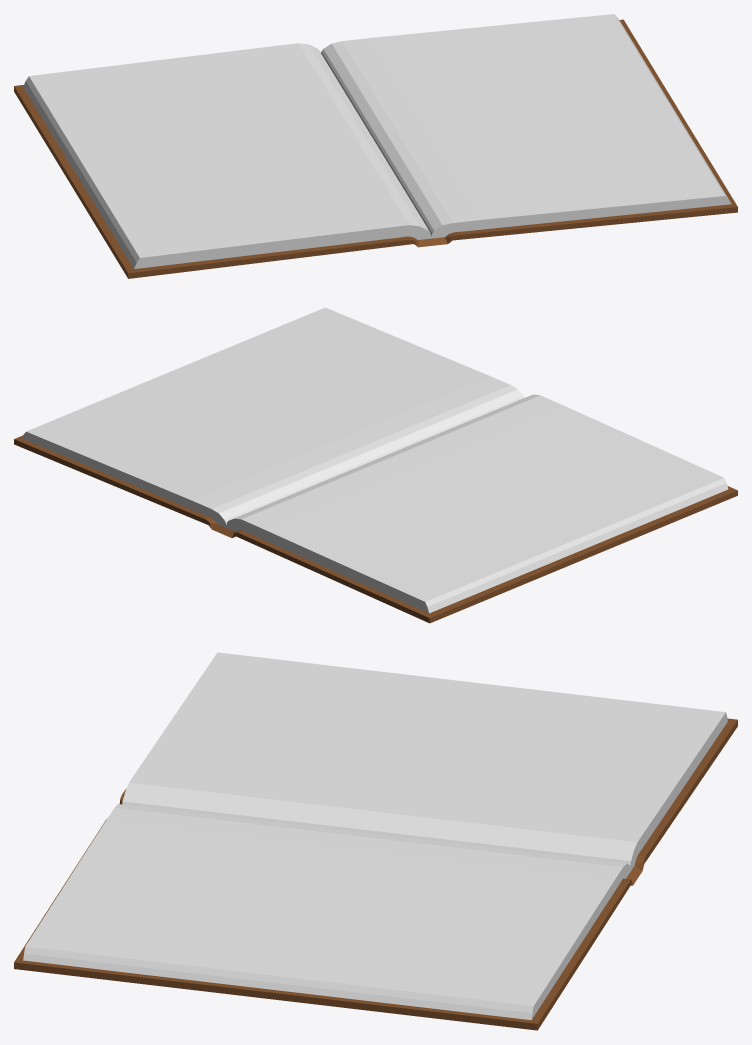
File: VJ_Diari_Obert.fbx
The picture shows the model from 3 angles, top to bottom: view 1: azimuth 30°, elevation 25°; view 2: azimuth 150°, elevation 25°; view 3: azimuth 270°, elevation 25°; orthographic projection. The views are drawn at different scales.
Parts seen in each view (by area): view 1: Diari_Obert; view 2: Diari_Obert; view 3: Diari_Obert.
Part boxes in pixels (<box>): Diari_Obert: <box>14,14,737,278</box>; Diari_Obert: <box>14,307,737,623</box>; Diari_Obert: <box>14,652,737,1030</box>.
Bounding box in the file's own units: 7.64 × 0.2351 × 6.39.
